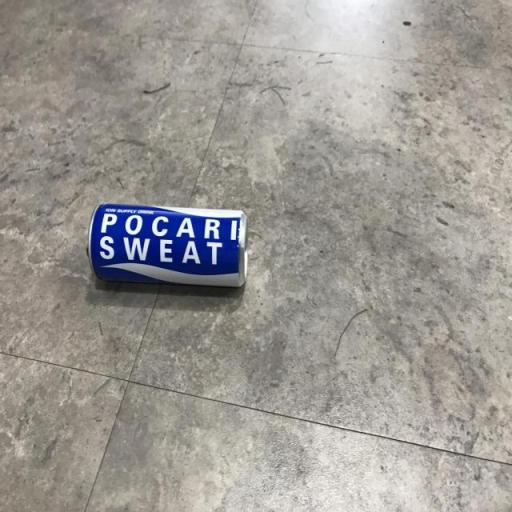metal: (72, 193, 266, 307)
